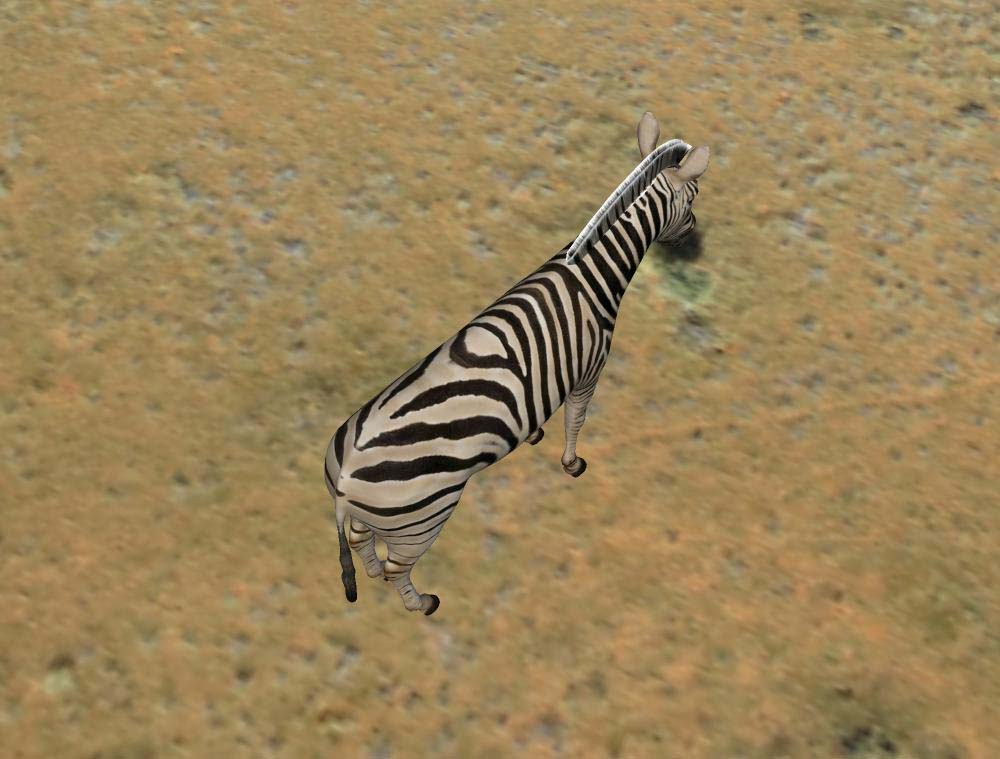zebra: (325, 107, 715, 623)
